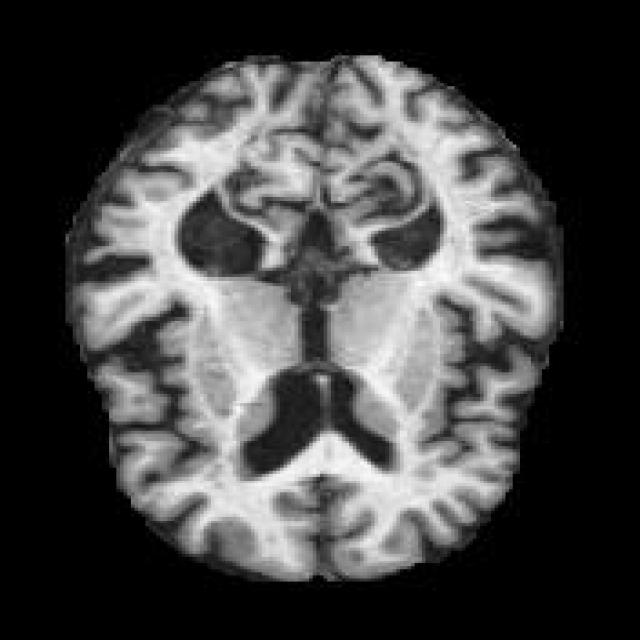Alzheimer: (61, 49, 564, 585)
